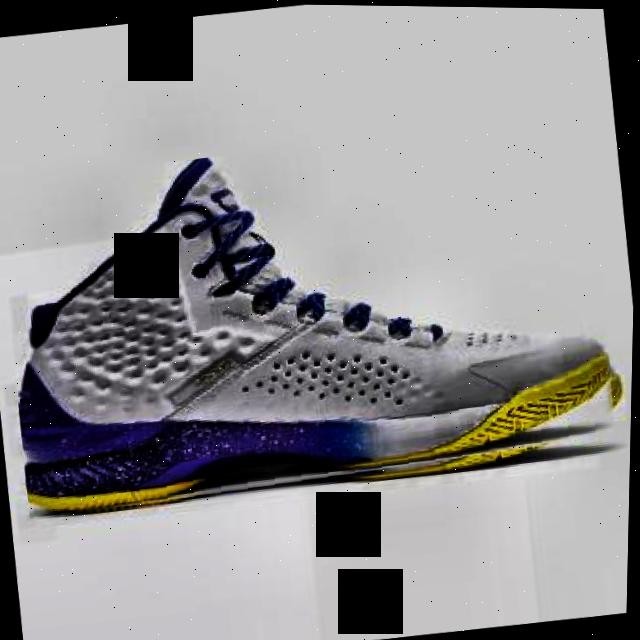shoe: (0, 106, 634, 526)
